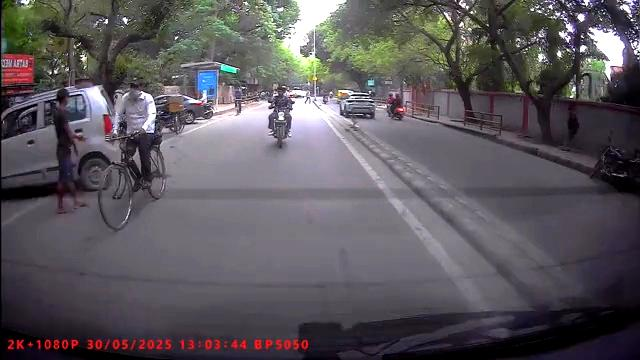motorcycle_without_helmet: (267, 83, 295, 150)
